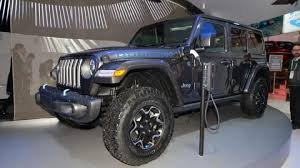mobil: (50, 14, 271, 159)
